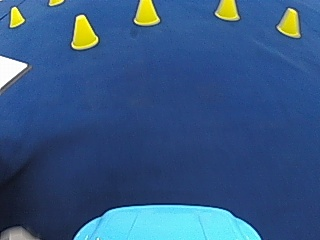cone: (69, 13, 98, 49), (276, 7, 301, 36), (133, 0, 160, 26), (214, 0, 239, 20), (8, 5, 24, 27)
